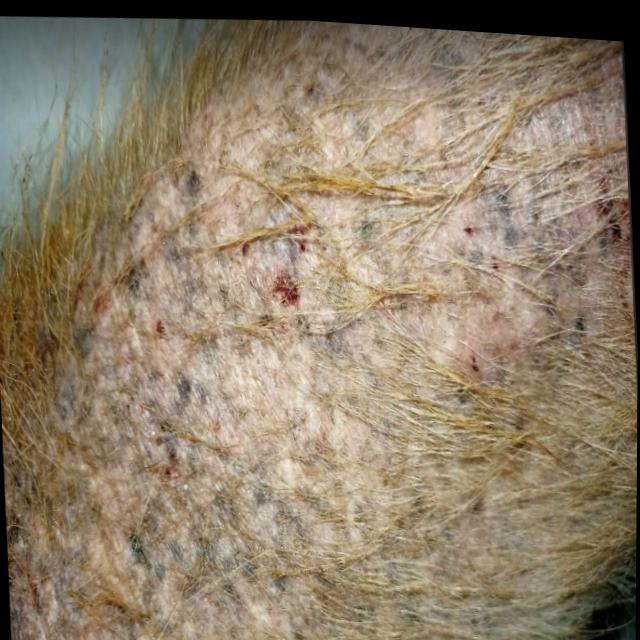demodicosis: (42, 136, 348, 636), (368, 23, 638, 399)
